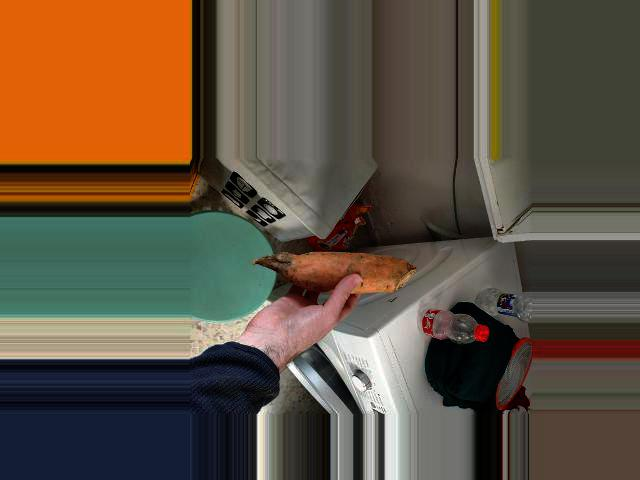sweet_potato: (251, 248, 404, 303)
